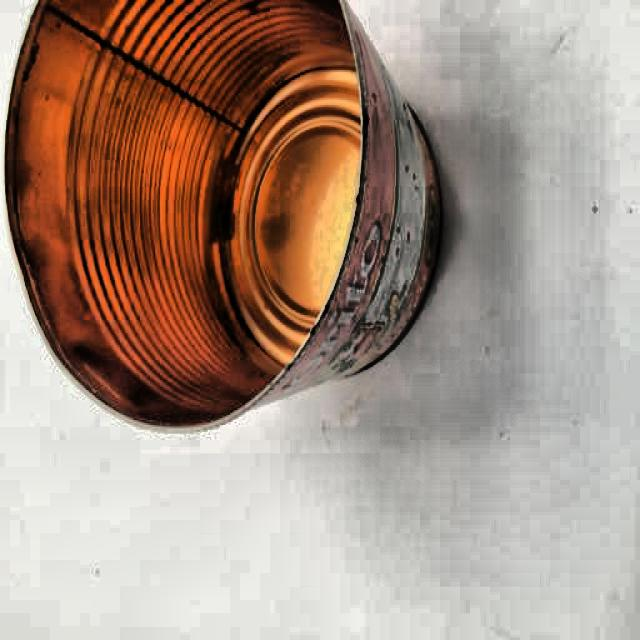metal: (8, 3, 444, 434)
